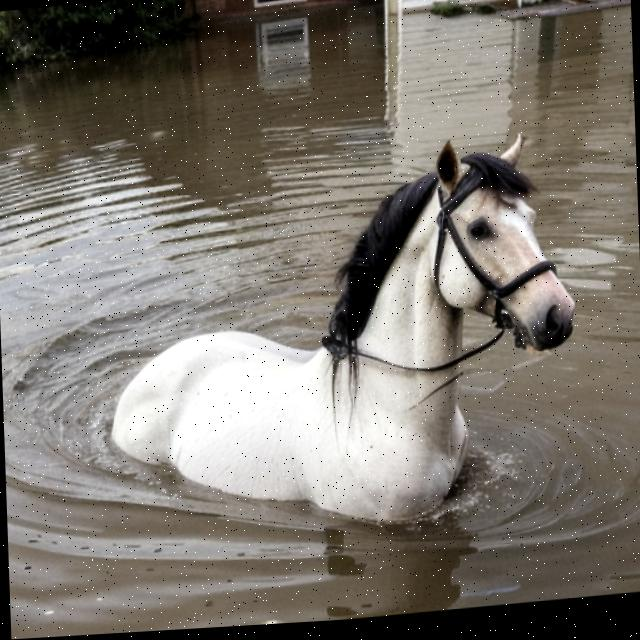horse: (90, 117, 586, 564)
